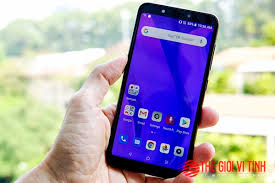vsmart: (97, 1, 219, 180)
